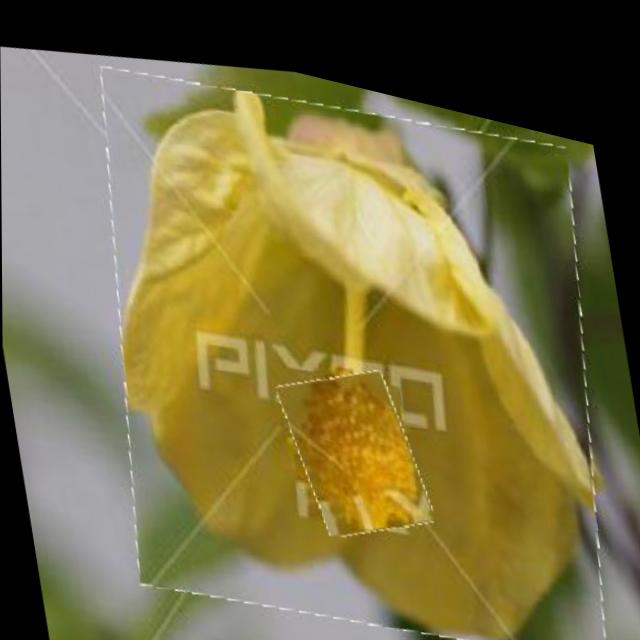Flower: (68, 13, 637, 640), (280, 334, 432, 539)
